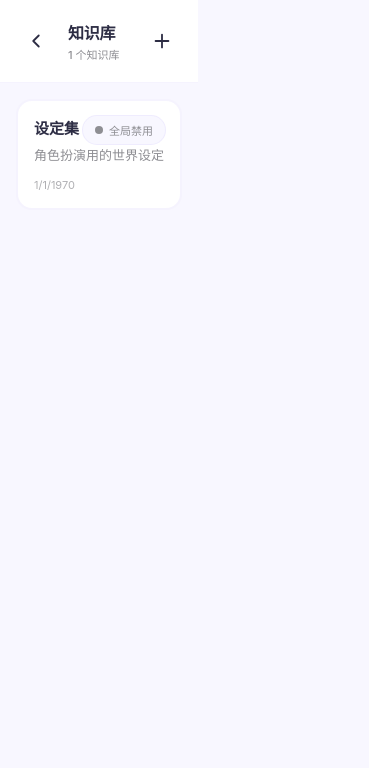
it: KnowledgeBasePage 详情与条目 › 启用切换：点击开关写入 enabled=false 并更新计数
Click the element with class "kb-card" at (99, 154), box [16, 99, 182, 210]
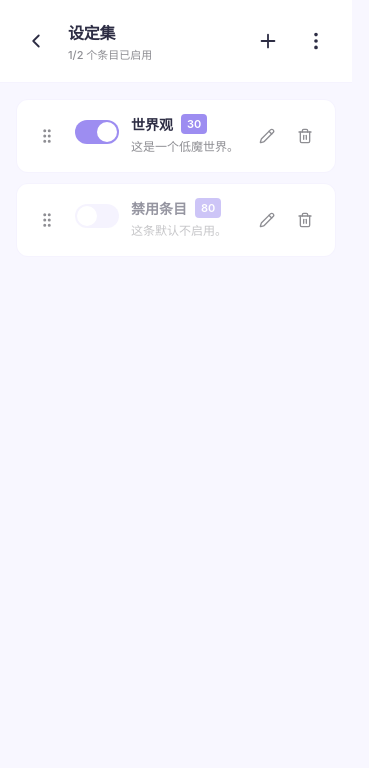
Result: the element with class "kb-detail-view" is shown
Click the 1st button with class "toggle-switch" at (97, 132), box [75, 120, 119, 144]
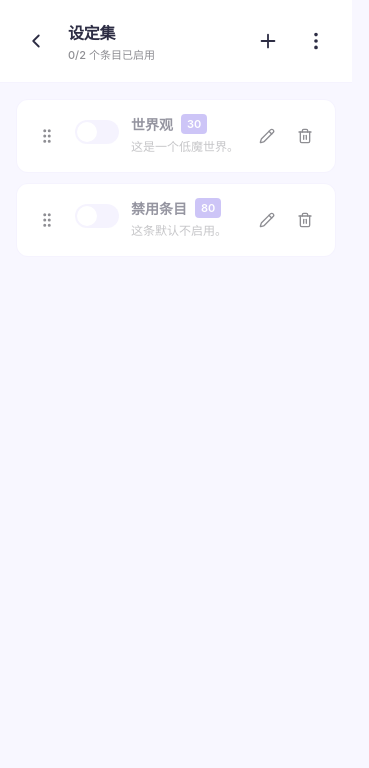
Result: the text "0/2 个条目已启用" is shown at [68, 48, 155, 62]
